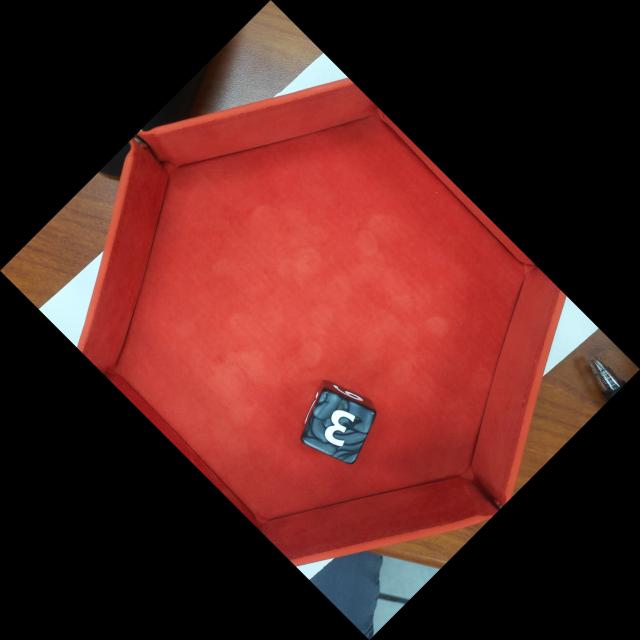dice: (299, 389, 379, 467)
